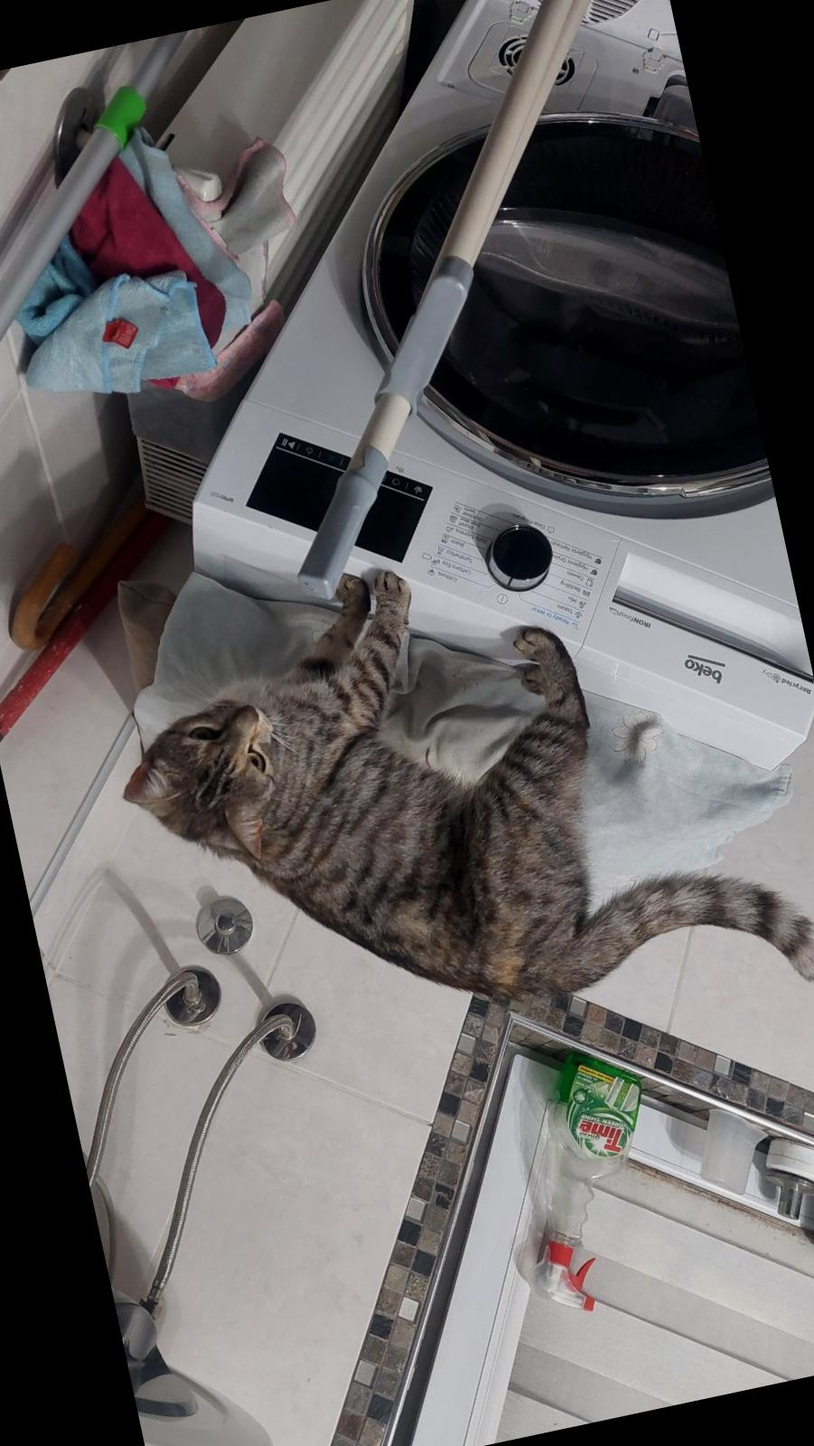macka: (76, 488, 814, 1122)
